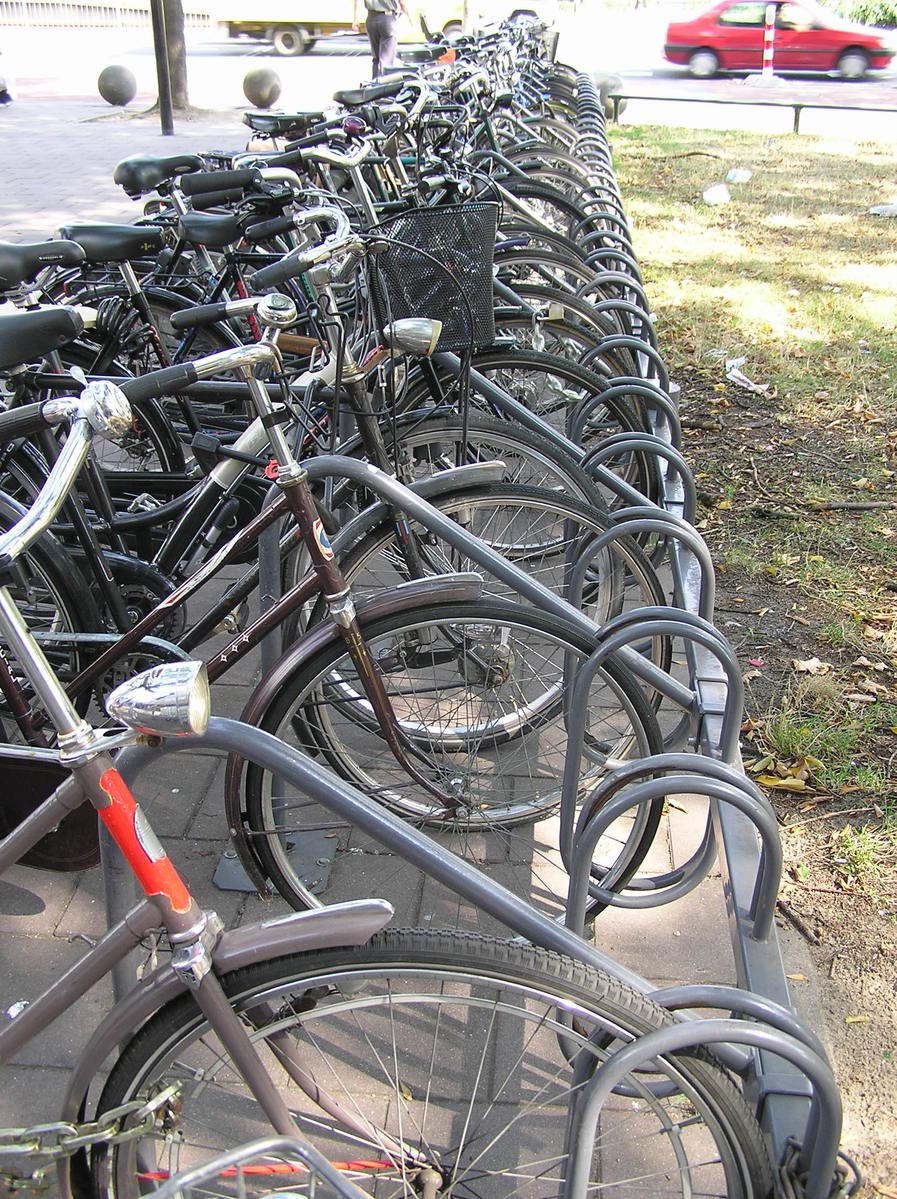Bicycle: (35, 74, 865, 1189)
